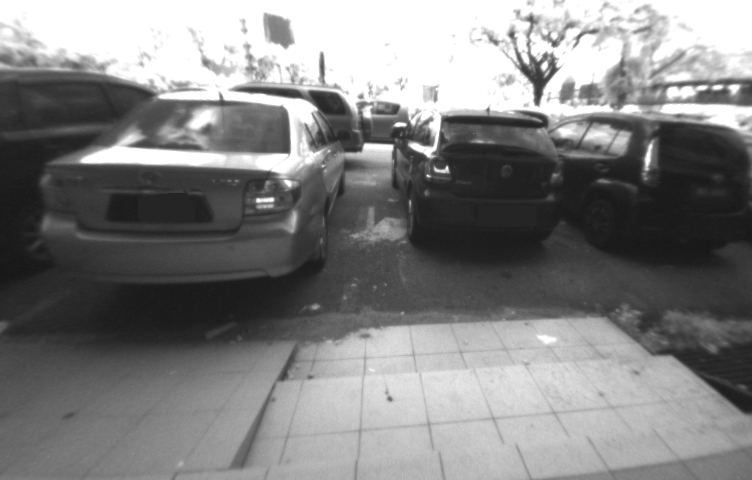down_steps: (242, 320, 733, 476)
mixed_gradient: (166, 329, 339, 480)
uncovered_drainage: (650, 325, 752, 425)
